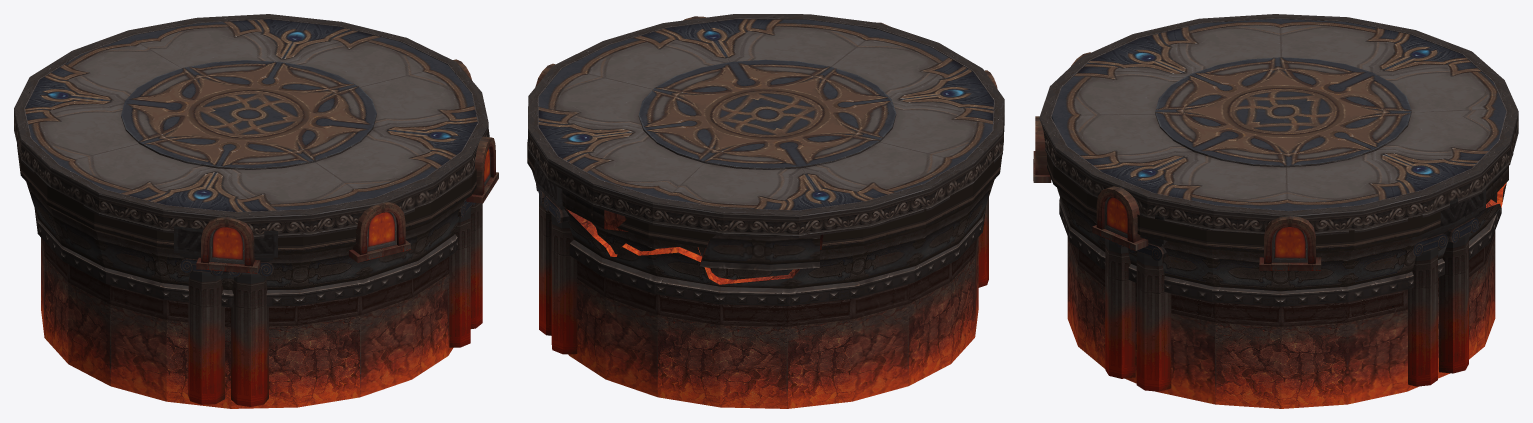
The model's file is sn_jingyanFB_wujian01_yt.FBX.
The picture shows the model from 3 angles, left to right: view 1: azimuth 30°, elevation 25°; view 2: azimuth 150°, elevation 25°; view 3: azimuth 270°, elevation 25°; orthographic projection.
Visible parts, largest first — view 1: sn_jingyanFB_wujian01_yt; view 2: sn_jingyanFB_wujian01_yt; view 3: sn_jingyanFB_wujian01_yt.
Boxes of the visible parts, x1,y1,x2,y2 form: sn_jingyanFB_wujian01_yt: (14,14,498,408); sn_jingyanFB_wujian01_yt: (527,14,1004,408); sn_jingyanFB_wujian01_yt: (1033,14,1518,408).
Bounding box in the file's own units: 2459 × 2453 × 1146.
